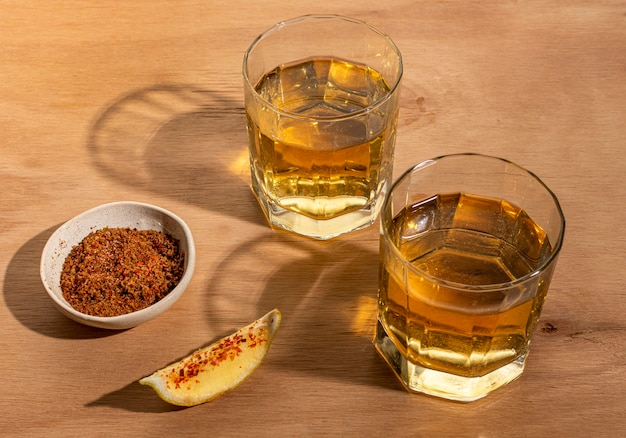alcohol: (371, 151, 566, 400), (237, 11, 404, 243)
